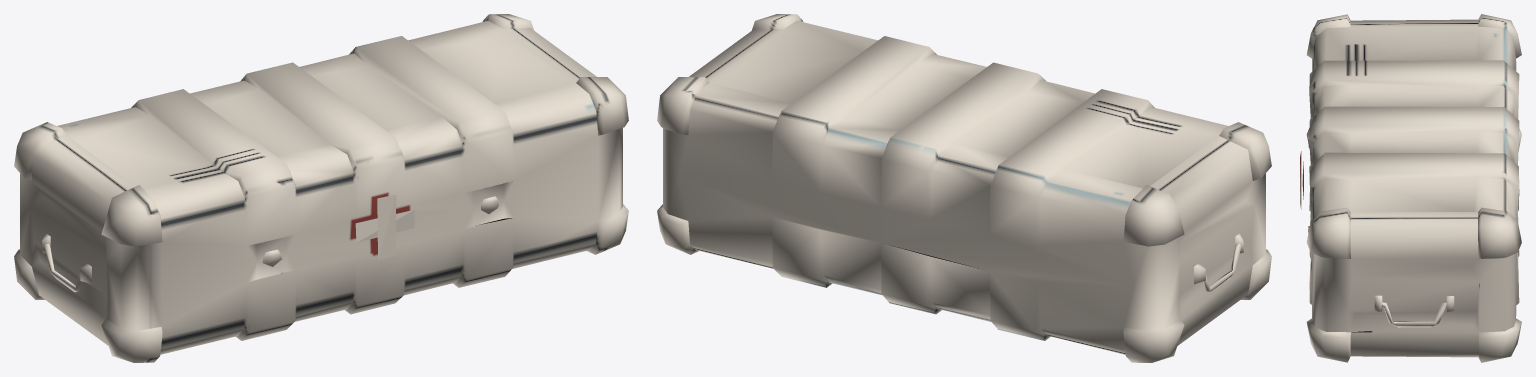
Rendered from health_box.glb.
The picture shows the model from 3 angles, left to right: view 1: azimuth 30°, elevation 25°; view 2: azimuth 150°, elevation 25°; view 3: azimuth 270°, elevation 25°; orthographic projection. The views are drawn at different scales.
Parts seen in each view (by area): view 1: health_box; view 2: health_box; view 3: health_box.
Boxes of the visible parts, x1,y1,x2,y2 form: health_box: [14, 14, 628, 362]; health_box: [657, 14, 1271, 362]; health_box: [1300, 14, 1521, 362].
Size of the model in its own units: 0.4005 by 0.1262 by 0.1699.
1 material, 1 textured.
